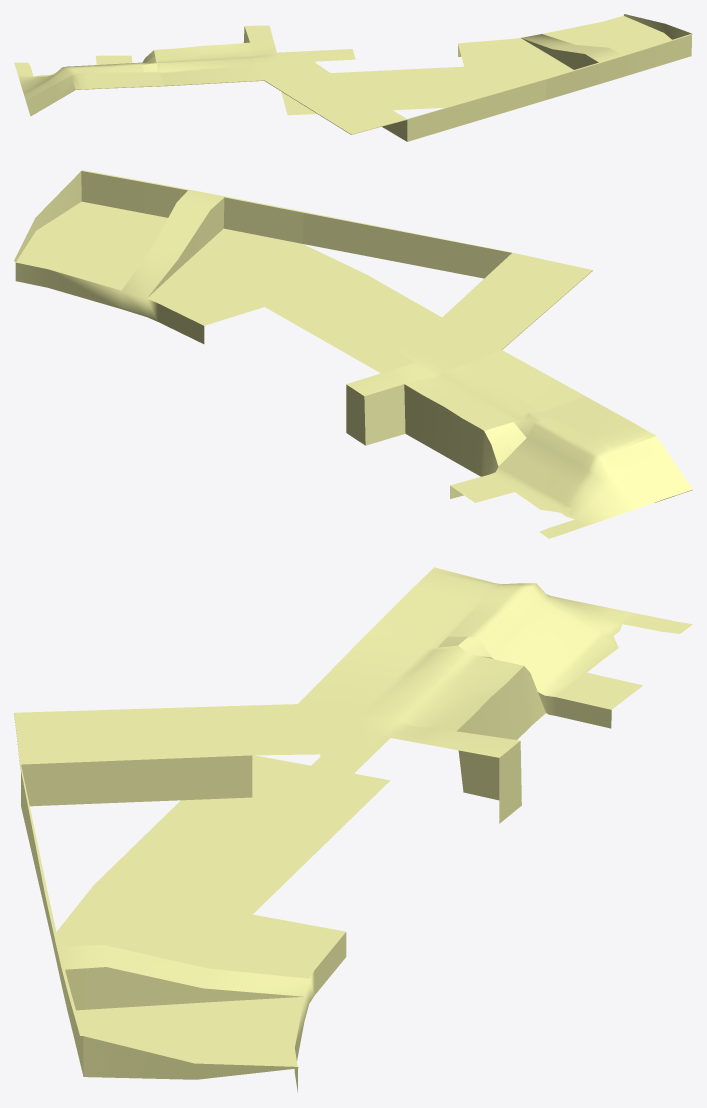
The model's file is floor_2nd.fbx.
3 views of the same model, one above another, from view 1: azimuth 30°, elevation 25°; view 2: azimuth 150°, elevation 25°; view 3: azimuth 270°, elevation 25° (orthographic). The views are drawn at different scales.
Parts seen in each view (by area): view 1: floor_2nd; view 2: floor_2nd; view 3: floor_2nd.
Boxes of the visible parts, left/top/right/bottom form: floor_2nd: left=14, top=14, right=692, bottom=141; floor_2nd: left=14, top=170, right=692, bottom=538; floor_2nd: left=14, top=567, right=692, bottom=1092.
Bounding box in the file's own units: 36.79 × 2.36 × 21.02.
